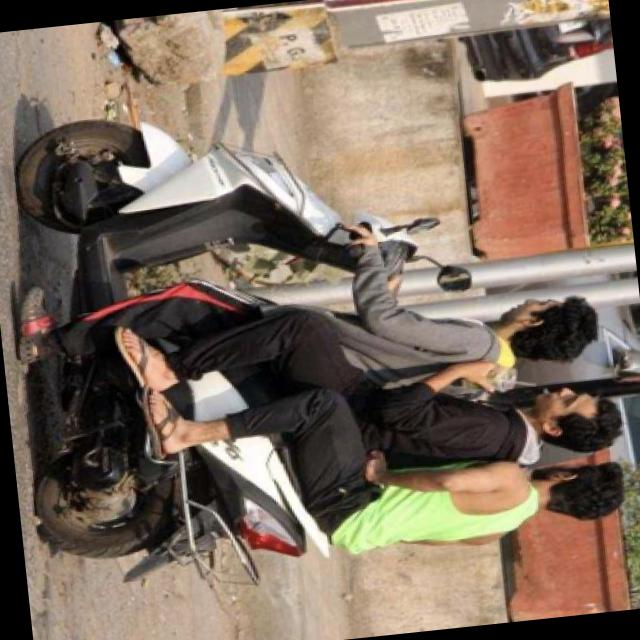bareface: (490, 288, 603, 374)
